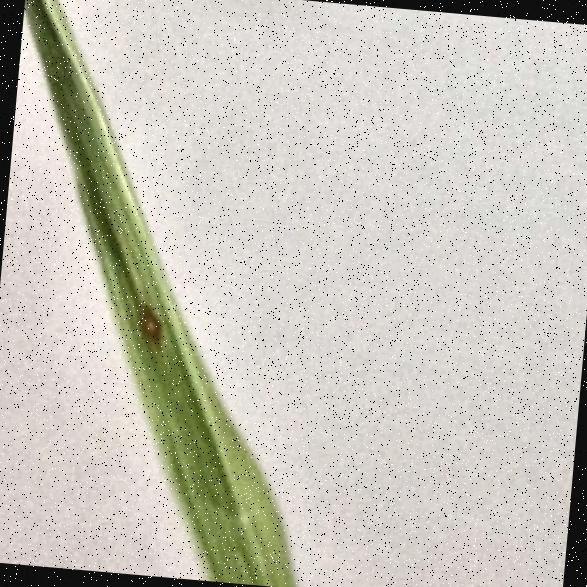Leaf_smut: (100, 273, 175, 359)
